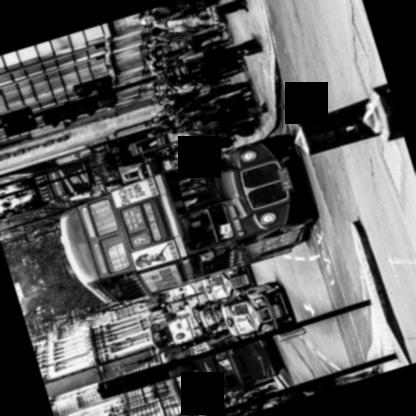backpack: (202, 117, 225, 128), (295, 389, 318, 399)
handbag: (178, 83, 211, 111), (232, 126, 255, 137), (204, 119, 219, 128), (188, 24, 204, 29)
suitcase: (240, 36, 262, 56), (246, 100, 268, 116)
